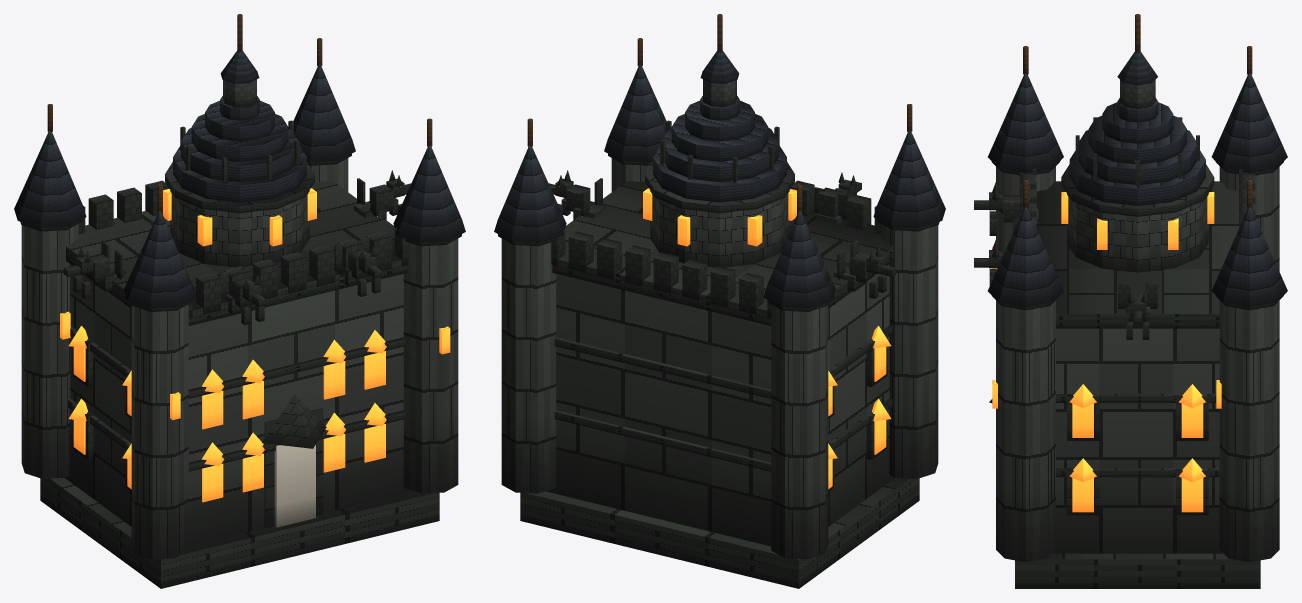
The model's file is manor.gltf.
The picture shows the model from 3 angles, left to right: view 1: azimuth 30°, elevation 25°; view 2: azimuth 150°, elevation 25°; view 3: azimuth 270°, elevation 25°; orthographic projection.
Parts seen in each view (by area): view 1: manor; view 2: manor; view 3: manor.
Boxes of the visible parts, x1=… form: manor: x1=14, y1=14, x2=465, y2=588; manor: x1=494, y1=14, x2=945, y2=588; manor: x1=974, y1=14, x2=1287, y2=588.
Bounding box in the file's own units: 3 × 4.08 × 2.3.
Materials: 1 (1 with a texture image).
